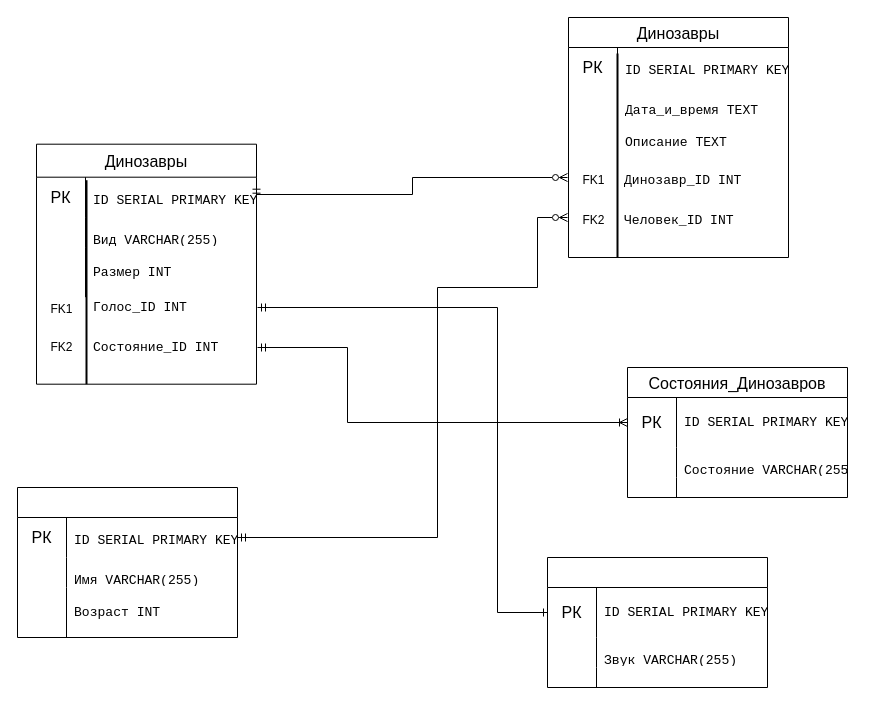
Some shapes in this 873 by 705 pixel diagram are drawn without their labels. The shapes that lost their labels are listed below. From the top down, each one's box as (x1, y1, x2, y2) in pixels, then its label:
(16, 486, 238, 638): Люди
(546, 556, 768, 688): Голоса_Динозавров
